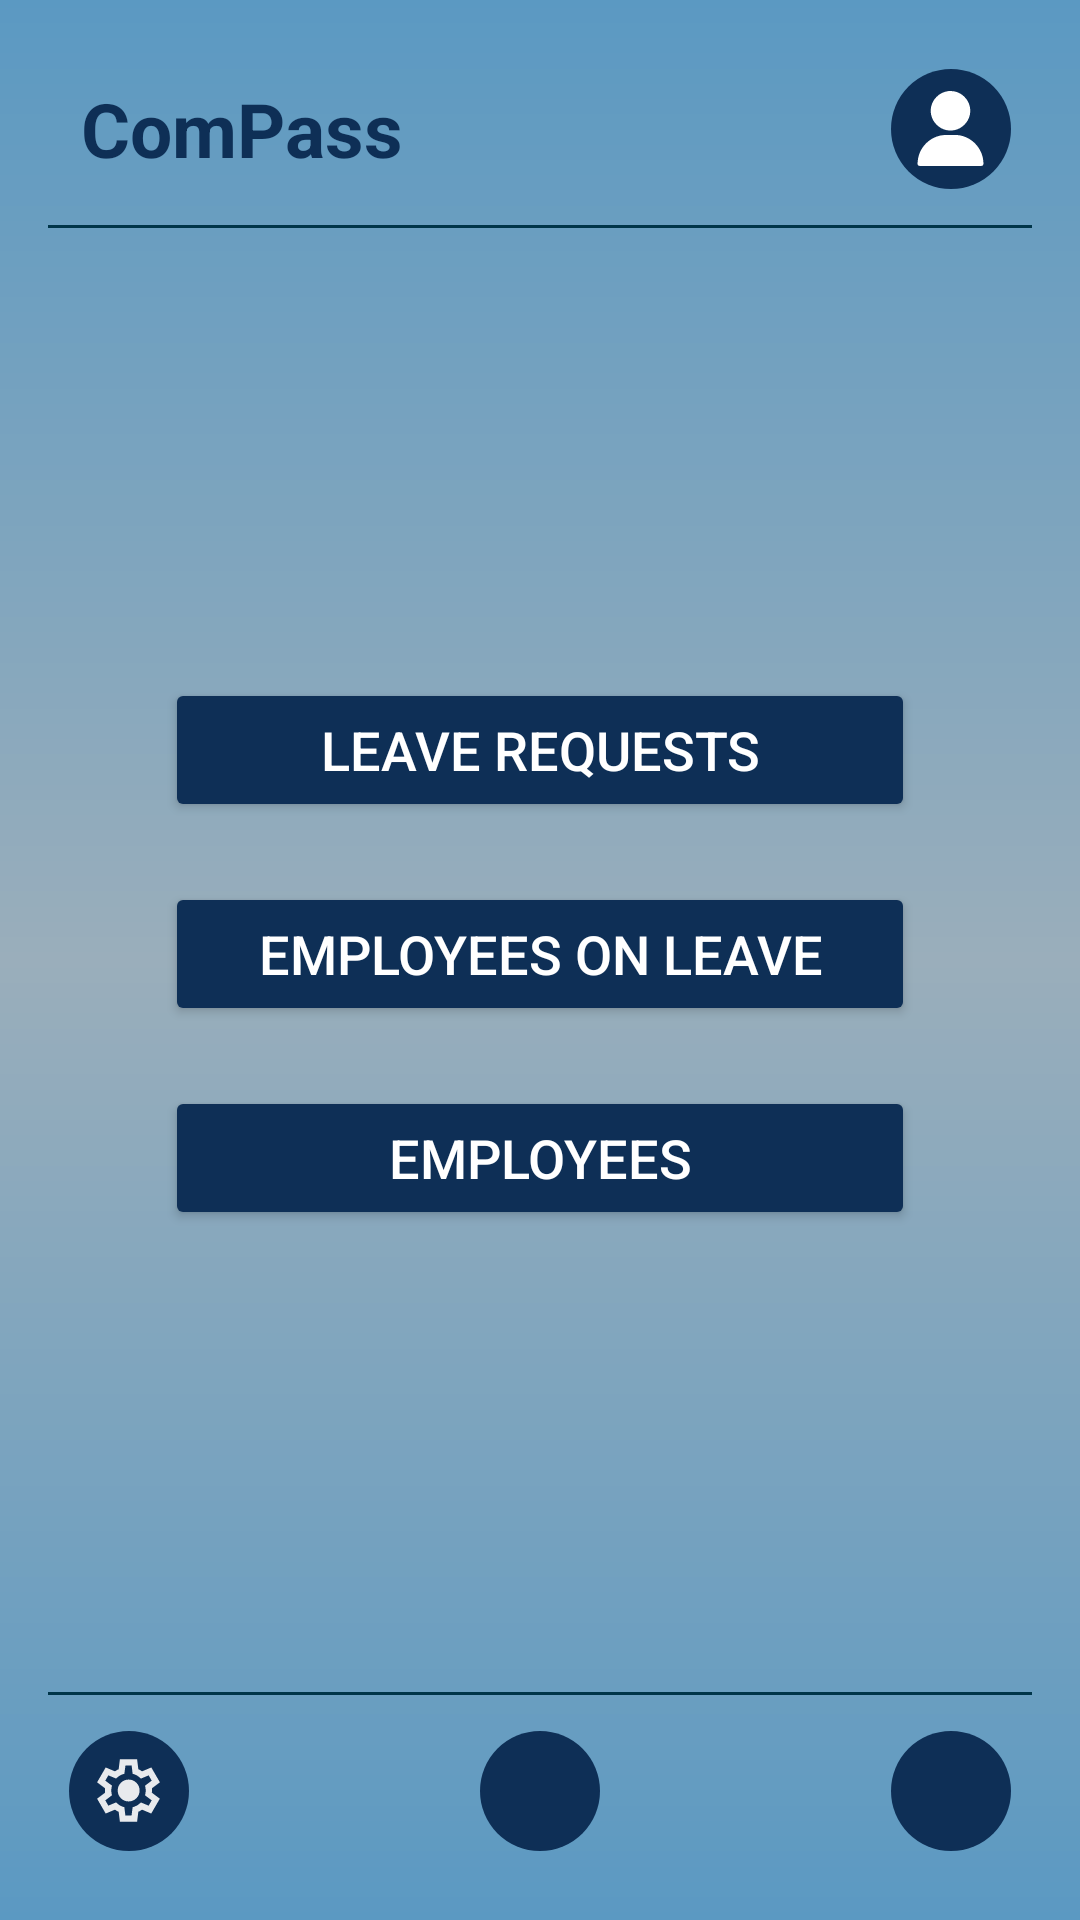

Screen size 1080*1920. Icon name, then its box in pixels as (x1, y1, x2, y2):
settings: (97, 1759, 160, 1822)
user: (917, 91, 984, 166)
